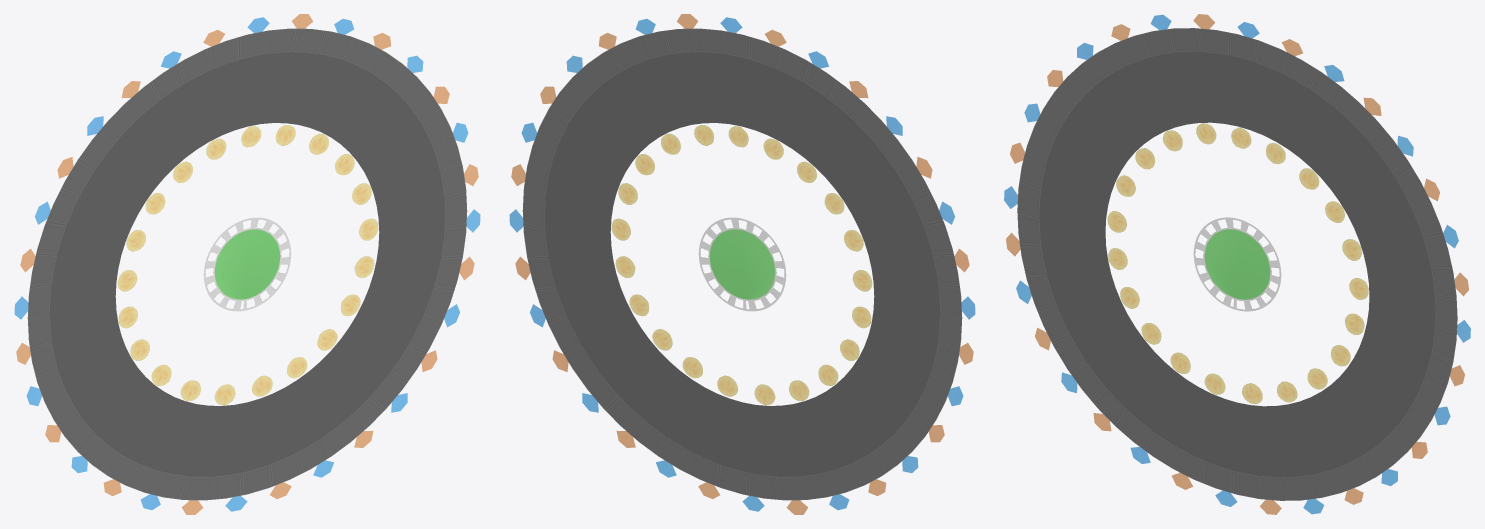
The picture shows the model from 3 angles, left to right: view 1: azimuth 30°, elevation 25°; view 2: azimuth 150°, elevation 25°; view 3: azimuth 330°, elevation 25°; orthographic projection.
Parts seen in each view (by area): view 1: SAMPLE; view 2: SAMPLE; view 3: SAMPLE.
Boxes of the visible parts, box(x1,y1,x2,y2) form: SAMPLE: box(14, 14, 480, 514); SAMPLE: box(509, 14, 975, 514); SAMPLE: box(1004, 14, 1470, 514).
Size of the model in its own units: 2.12 by 2.12 by 5.42e-09.
1 material, 1 textured.
